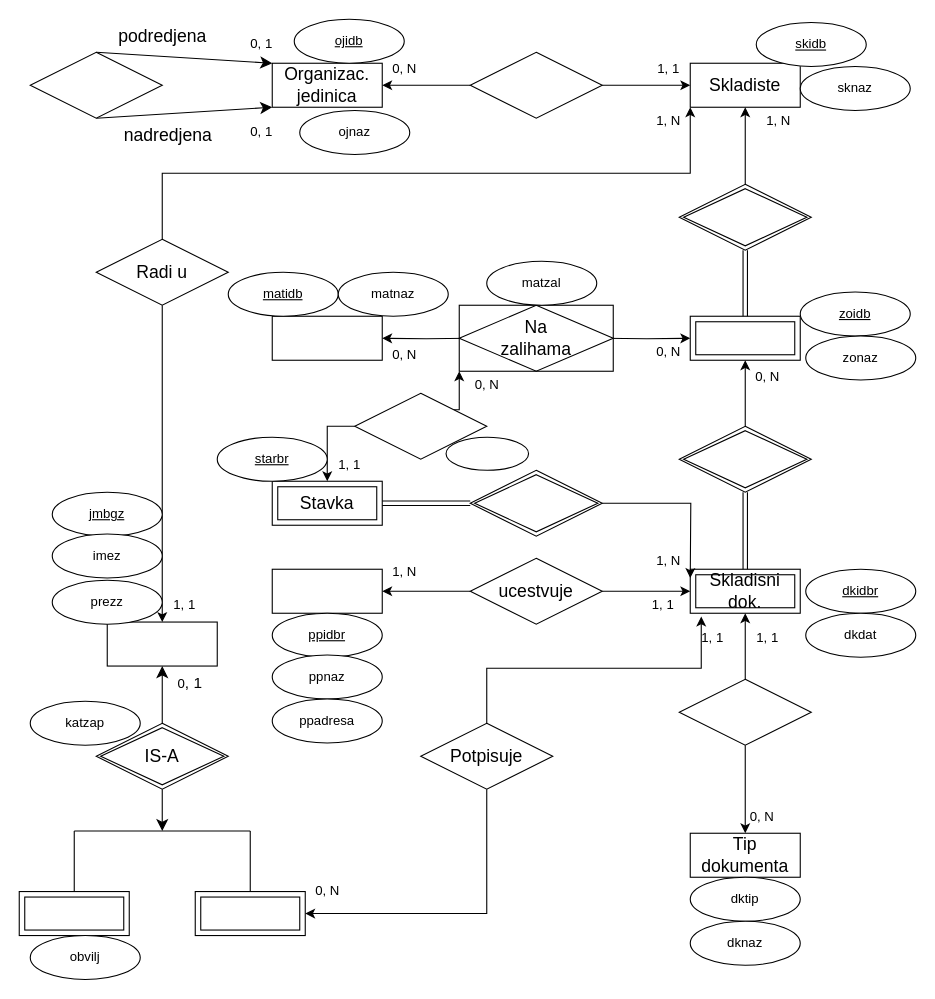
Image size: 935x999. Some labels were removed from this diagram. Each missing label, with the centre of its shape:
"Admin. Radnik" goes at point 249,913.
"ima podredjenu" goes at point 95,84.
"Ima stavke" goes at point 535,502.
"ima tip" goes at point 744,711.
"Magacioner" goes at point 73,913.
"Materijal" goes at point 326,337.
"Obuhvata" goes at point 420,425.
"odnosi se na" goes at point 744,458.
"poseduje" goes at point 744,216.
"Poslovni partner" goes at point 326,590.
"pripada" goes at point 535,84.
"Skladisna zona" goes at point 744,337.
"stakol" goes at point 487,453.
"Zaposleni" goes at point 161,643.
